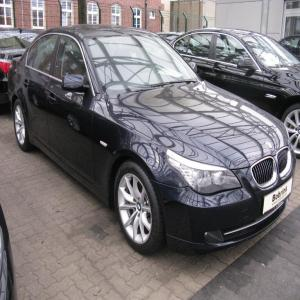Vehicle-registration-plate: (264, 182, 294, 215)
